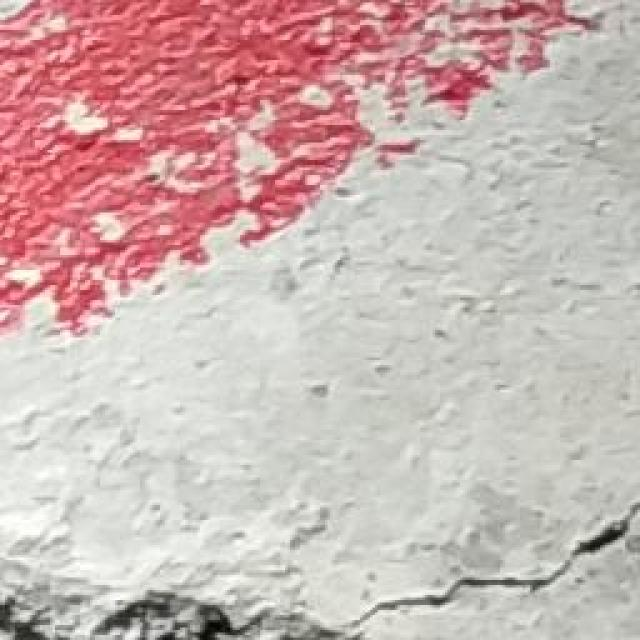Transverse: (0, 497, 640, 640)
